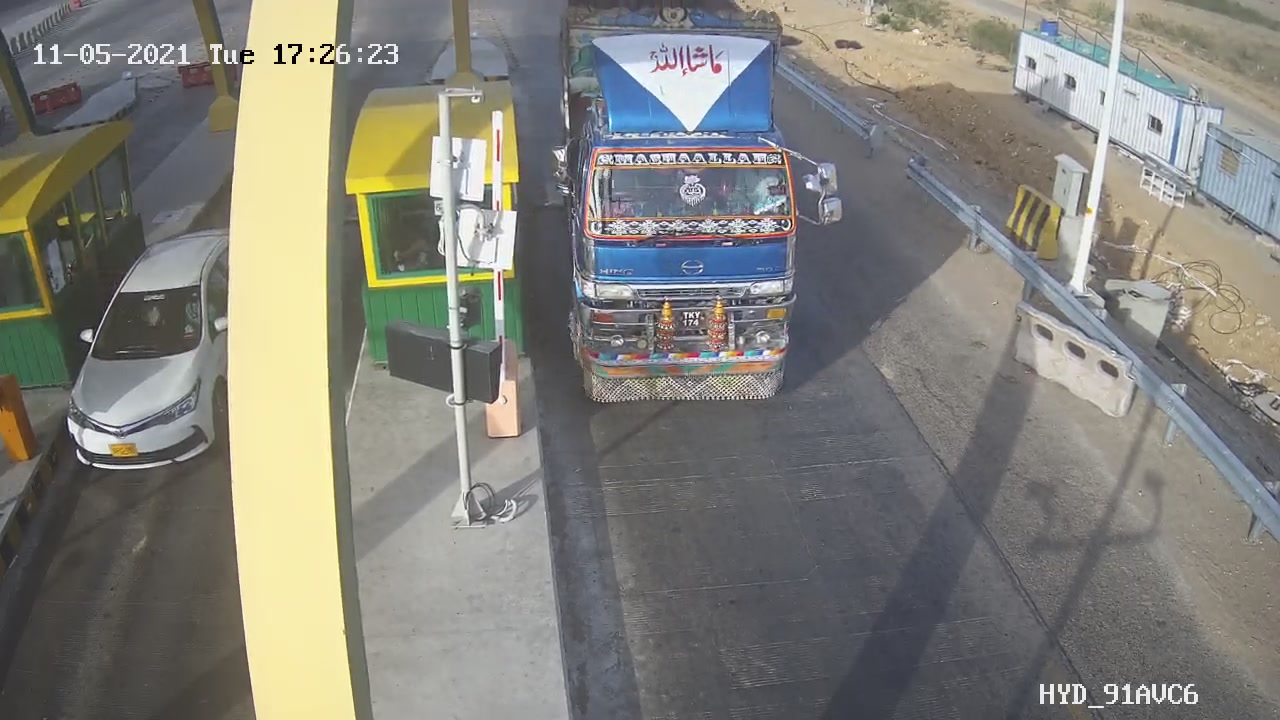F6: (529, 3, 861, 422)
